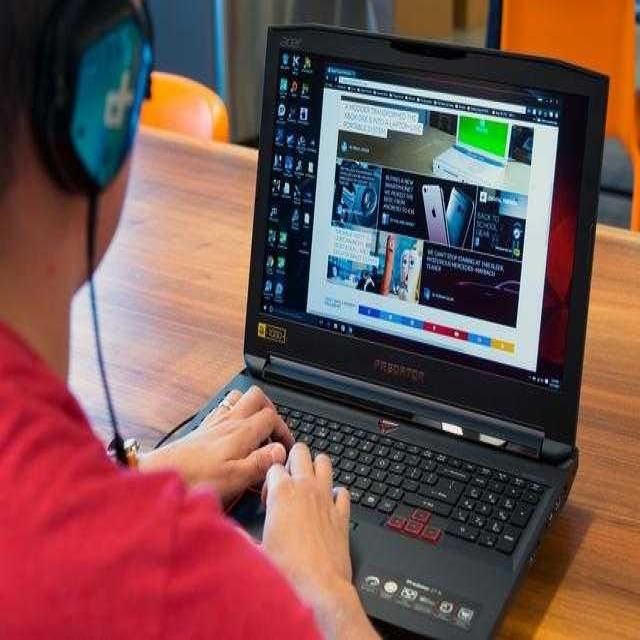laptop: (198, 35, 608, 640)
